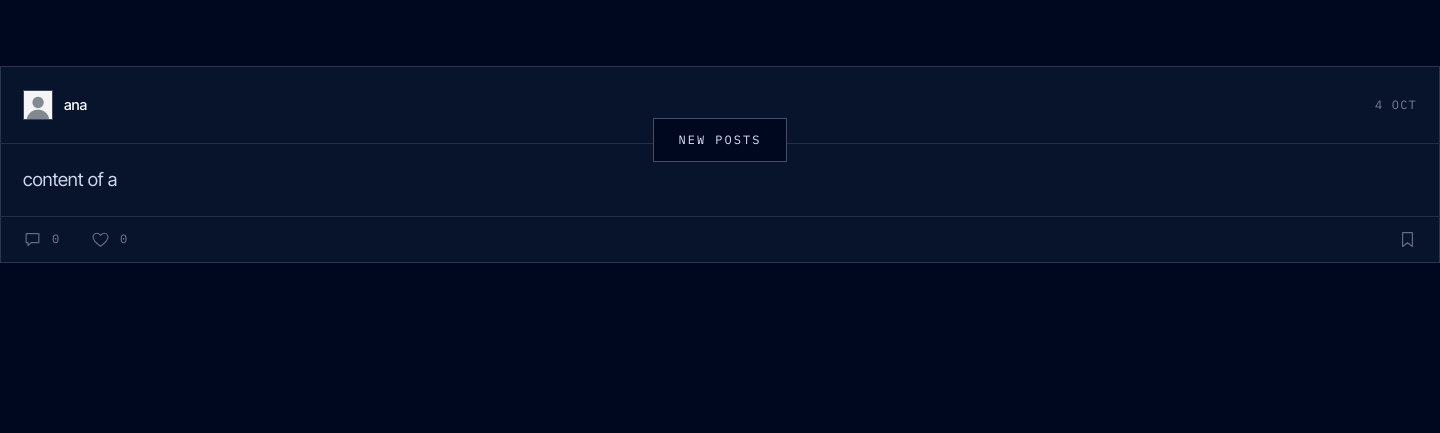
Scenario: new posts while reading › the button › should_scroll_to_the_top_and_hide_itself_when_it_is_pressed
Click the button "NEW POSTS": (720, 140) [653,118,787,162]
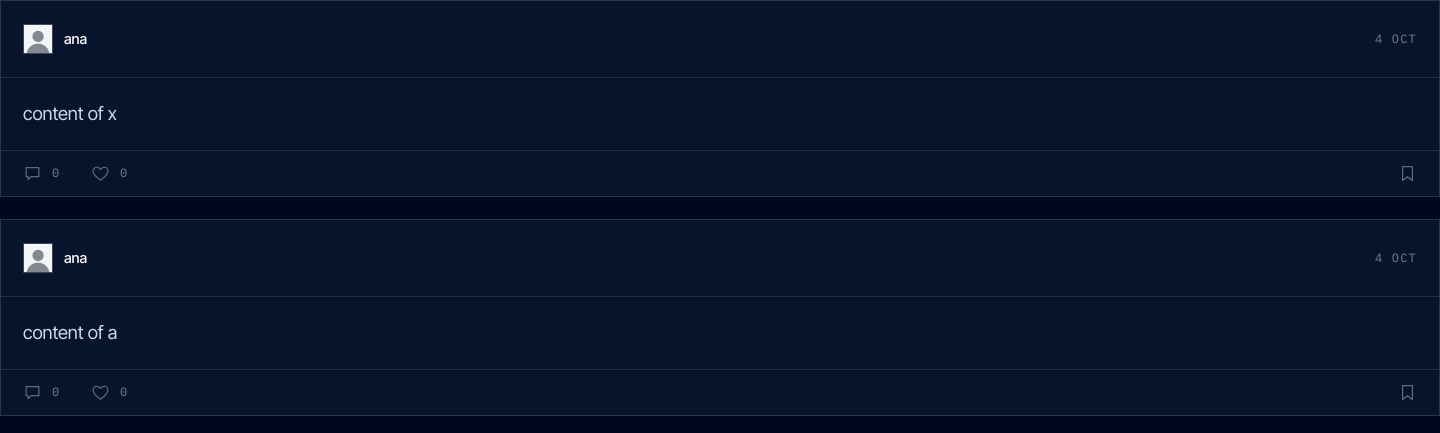
Check: the button "NEW POSTS" is gone
